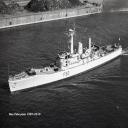Fragata: (8, 22, 124, 95)
